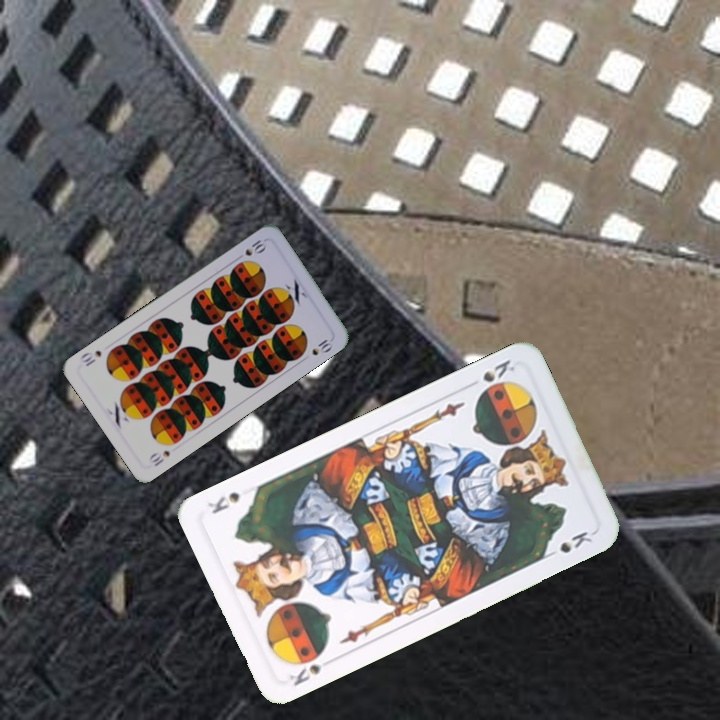S10: (241, 235, 269, 259), (145, 446, 173, 469)
SK: (285, 653, 338, 689), (478, 355, 518, 385)
